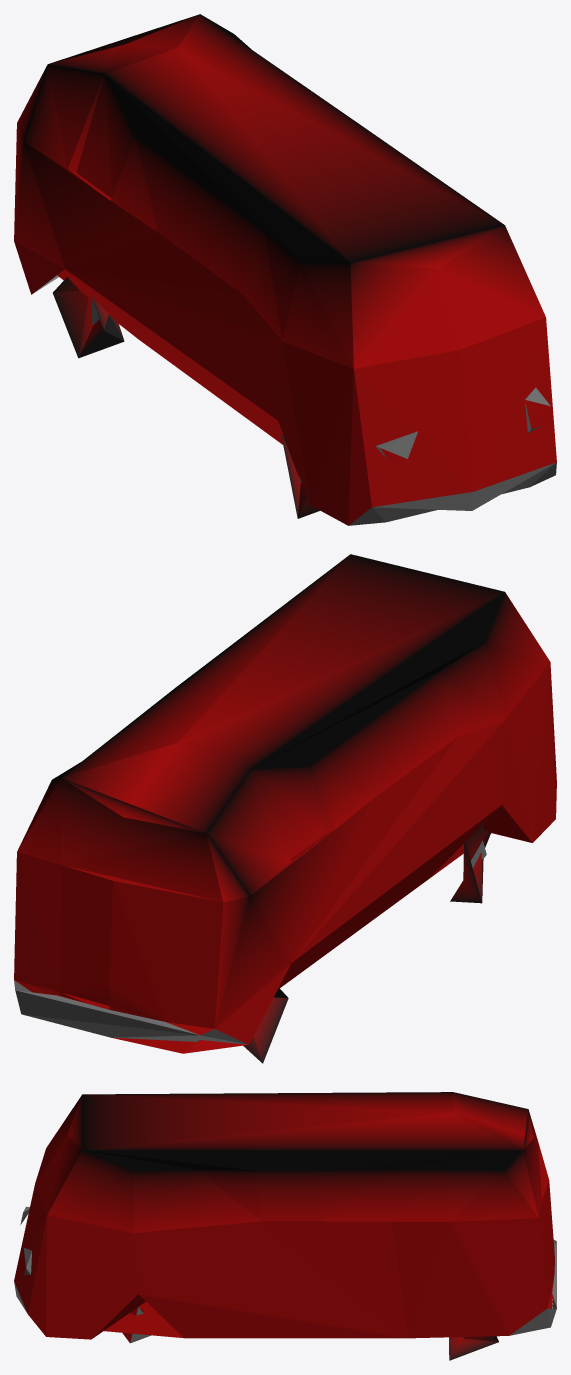
The model's file is camper-van.lod2.glb.
3 views of the same model, one above another, from view 1: azimuth 30°, elevation 25°; view 2: azimuth 150°, elevation 25°; view 3: azimuth 270°, elevation 25° (orthographic). The views are drawn at different scales.
Parts seen in each view (by area): view 1: Cylinder_chrome_0; view 2: Cylinder_chrome_0; view 3: Cylinder_chrome_0.
Part boxes in pixels (left/top/right/bottom): Cylinder_chrome_0: left=14, top=14, right=556, bottom=525; Cylinder_chrome_0: left=14, top=554, right=556, bottom=1063; Cylinder_chrome_0: left=14, top=1092, right=556, bottom=1360.
Bounding box in the file's own units: 1.58 × 1.96 × 4.44.
